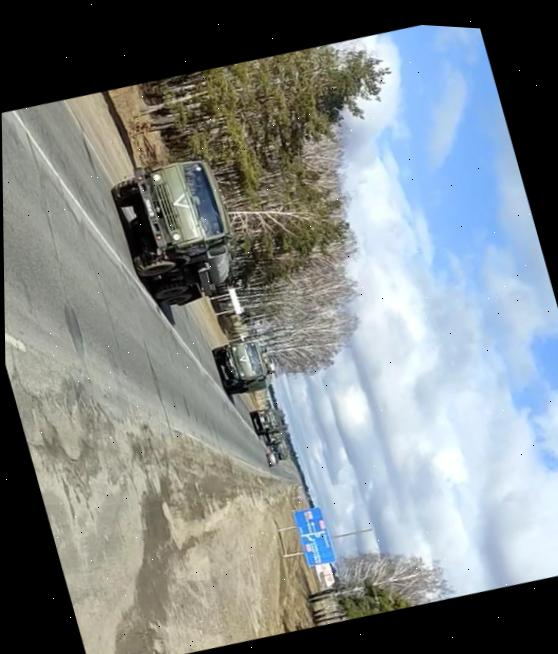car: (262, 449, 279, 469)
truck: (100, 131, 261, 331), (198, 327, 284, 414), (244, 401, 287, 443)
